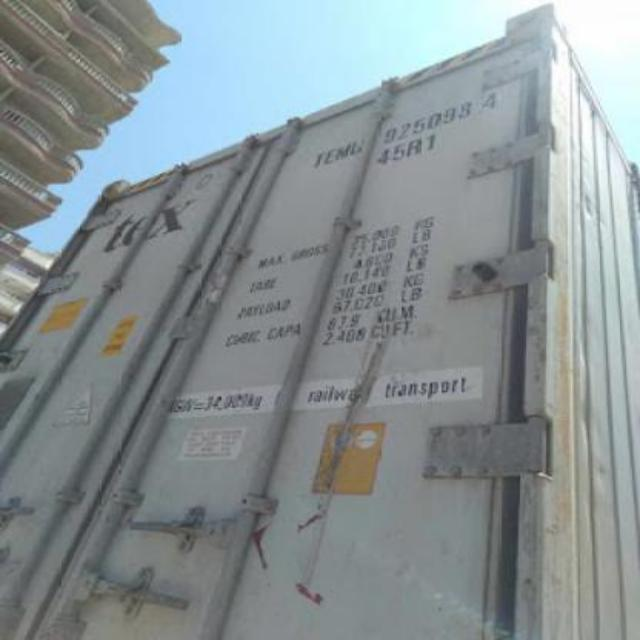0: (426, 103, 442, 127)
2: (401, 109, 414, 141)
4: (480, 85, 504, 111)
5: (412, 103, 424, 135)
8: (456, 97, 472, 123)
9: (380, 122, 398, 146), (441, 99, 454, 125)
E: (324, 142, 336, 168)
M: (332, 138, 348, 164)
T: (306, 142, 324, 168)
U: (351, 134, 364, 158)
